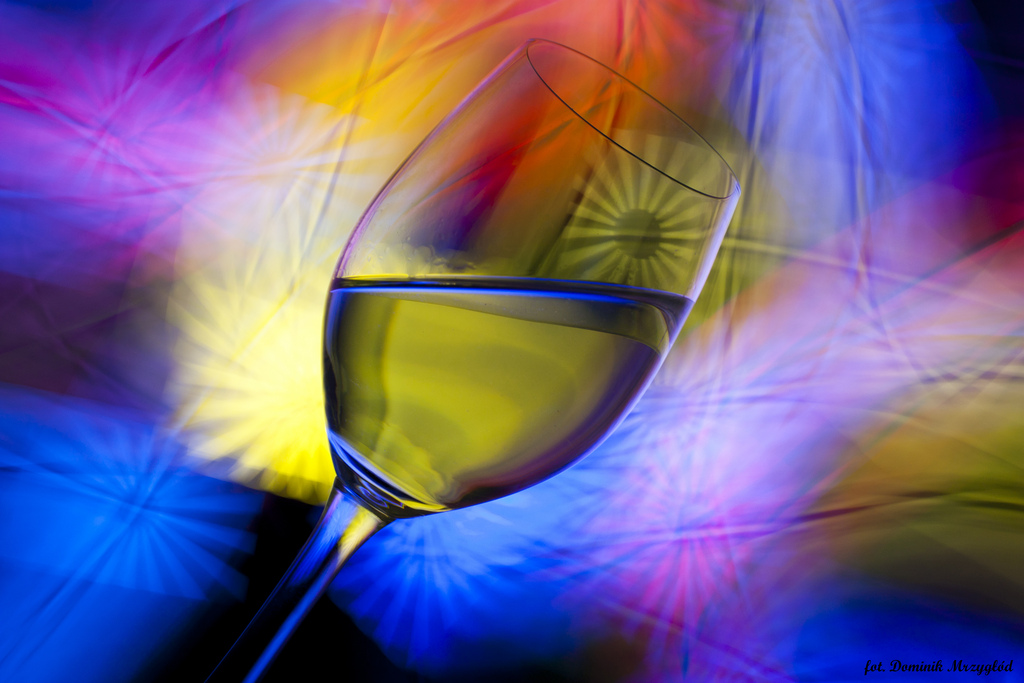glass of water: (256, 48, 813, 513)
